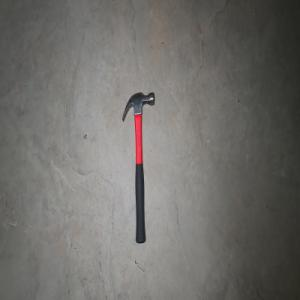Hammer: (121, 91, 154, 244)
